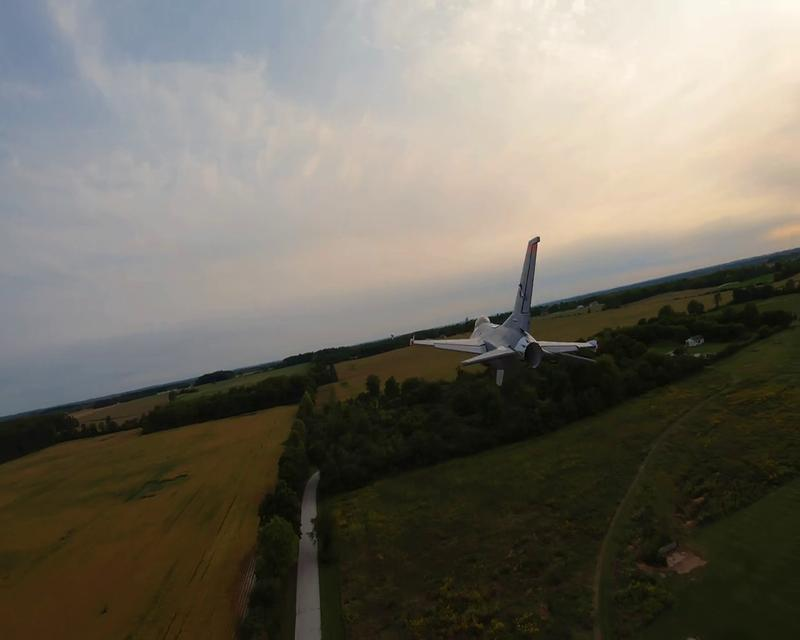UAV: (408, 234, 599, 387)
